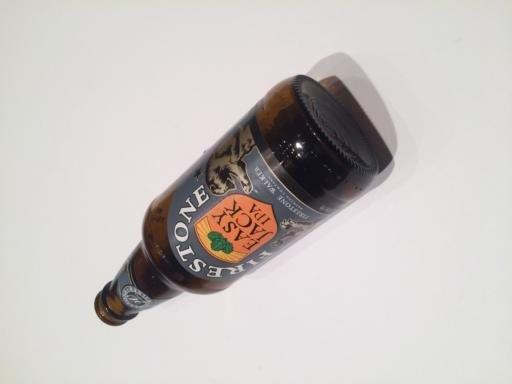botolkaca: (94, 74, 377, 325)
